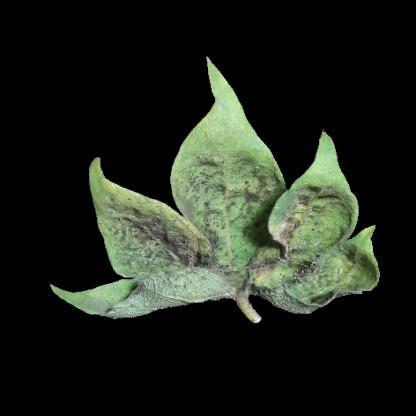curl_stage1: (213, 107, 252, 156), (100, 183, 130, 207), (313, 165, 342, 188), (261, 270, 275, 288)
curl_stage2: (158, 282, 218, 302)
sooty: (194, 161, 277, 240), (118, 217, 201, 279), (202, 240, 253, 287), (283, 262, 329, 289), (278, 208, 307, 244), (330, 258, 365, 286)
